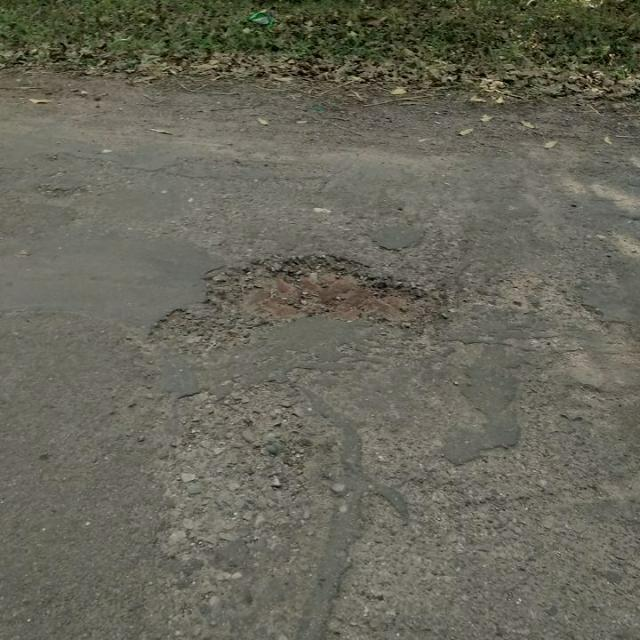Pothole: (144, 247, 449, 355)
